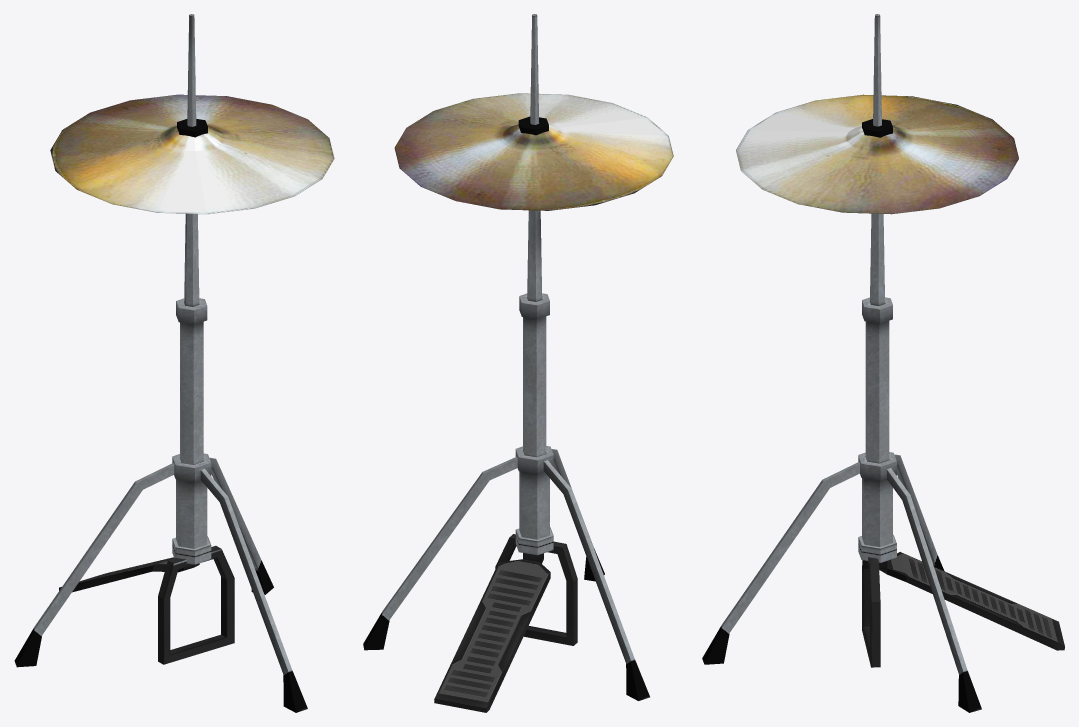
Rendered from LIH0210016.fbx.
3 views of the same model, side by side, from view 1: azimuth 30°, elevation 25°; view 2: azimuth 150°, elevation 25°; view 3: azimuth 270°, elevation 25° (orthographic).
Visible parts, largest first — view 1: smLIH0210016; view 2: smLIH0210016; view 3: smLIH0210016.
Part boxes in pixels (x1,y1,x2,y2): smLIH0210016: (14, 14, 334, 712); smLIH0210016: (363, 14, 673, 712); smLIH0210016: (702, 14, 1064, 712).
Size of the model in its own units: 58.15 by 129 by 66.7.
1 material, 1 textured.
